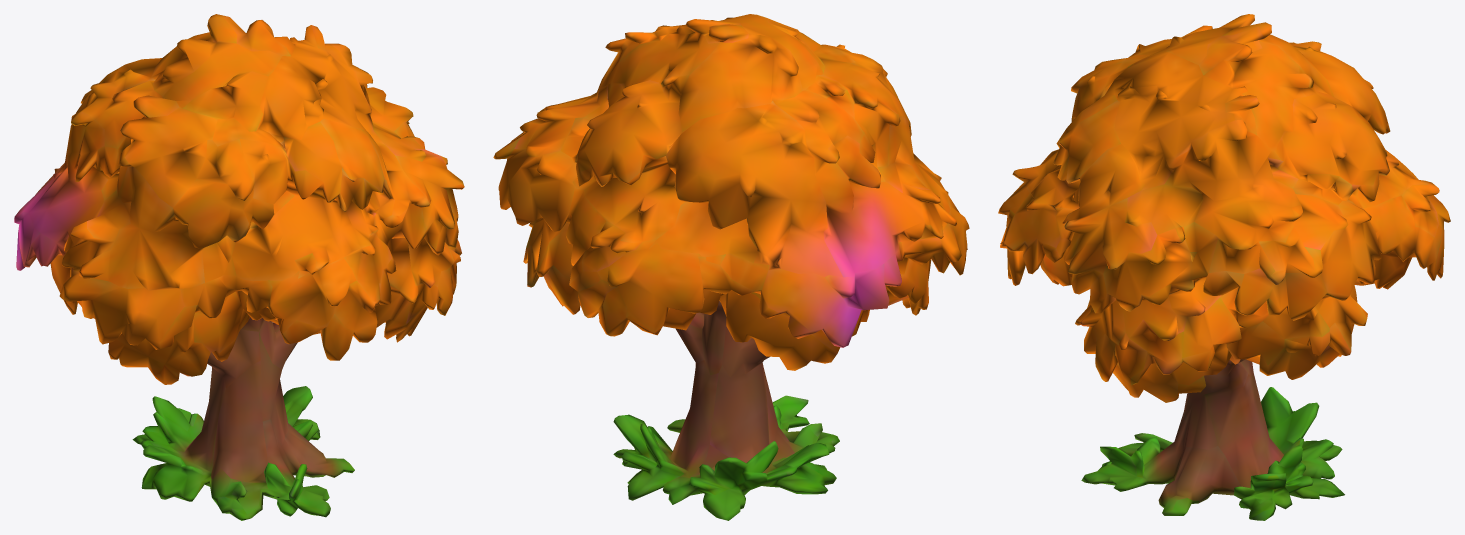
The model's file is tt_orange.glb.
The picture shows the model from 3 angles, left to right: view 1: azimuth 30°, elevation 25°; view 2: azimuth 150°, elevation 25°; view 3: azimuth 270°, elevation 25°; orthographic projection. The views are drawn at different scales.
Visible parts, largest first — view 1: tree; view 2: tree; view 3: tree.
Boxes of the visible parts, x1=… form: tree: x1=14, y1=14, x2=464, y2=520; tree: x1=493, y1=14, x2=969, y2=520; tree: x1=998, y1=14, x2=1450, y2=520.
Size of the model in its own units: 0.9304 by 1 by 0.9115.
Materials: 1 (1 with a texture image).
